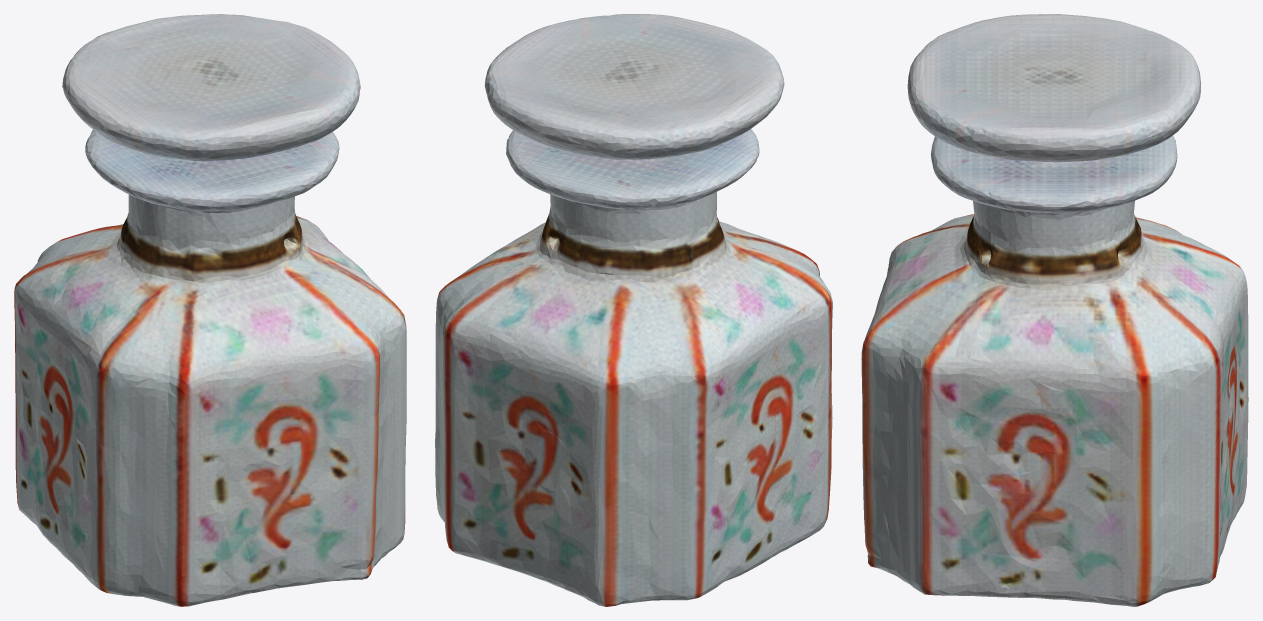
3 renders of one model, left to right at view 1: azimuth 30°, elevation 25°; view 2: azimuth 150°, elevation 25°; view 3: azimuth 270°, elevation 25°, orthographic.
Visible parts, largest first — view 1: Mesh_0.011; view 2: Mesh_0.011; view 3: Mesh_0.011.
Part boxes in pixels (x1,y1,x2,y2): Mesh_0.011: [14, 14, 406, 606]; Mesh_0.011: [435, 14, 832, 606]; Mesh_0.011: [861, 14, 1248, 606].
Size of the model in its own units: 4.49 by 6.34 by 4.79.
Materials: 1 (1 with a texture image).
